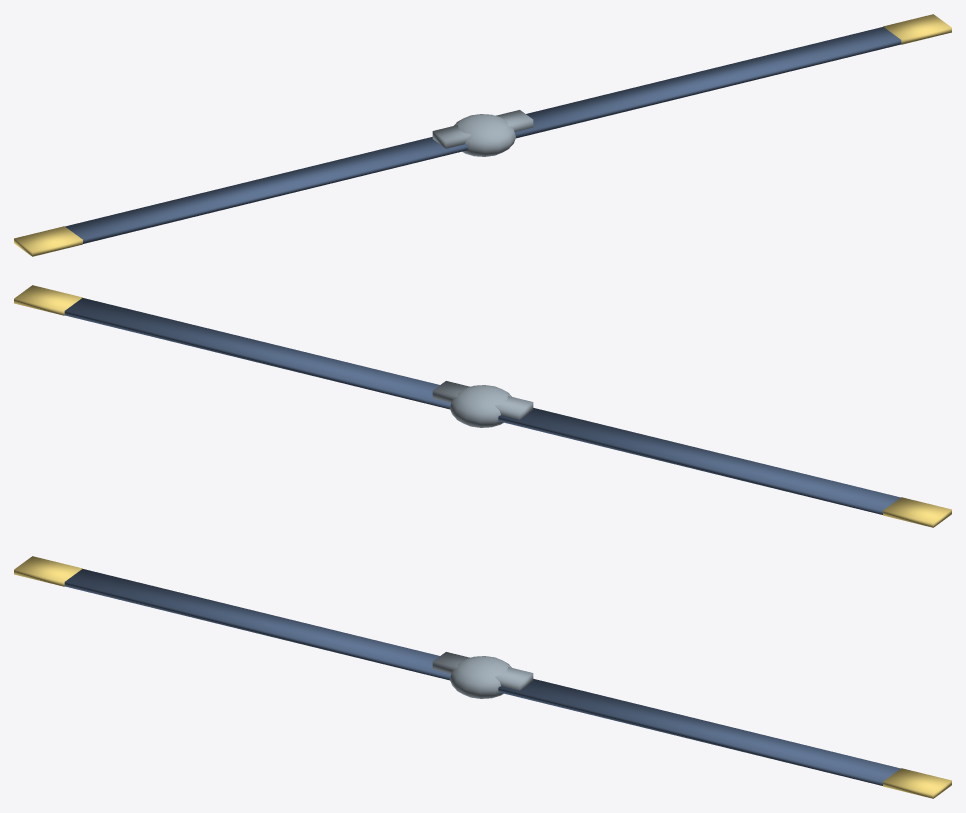
The model's file is ryeah_main_rotor.glb.
3 views of the same model, one above another, from view 1: azimuth 30°, elevation 25°; view 2: azimuth 150°, elevation 25°; view 3: azimuth 330°, elevation 25° (orthographic).
Parts seen in each view (by area): view 1: MainRotor_Blades, MainRotor_Hub, MainRotor_Tips; view 2: MainRotor_Blades, MainRotor_Hub, MainRotor_Tips; view 3: MainRotor_Blades, MainRotor_Hub, MainRotor_Tips.
Part boxes in pixels (x1=…): MainRotor_Blades: x1=65, y1=27, x2=901, y2=243; MainRotor_Hub: x1=432, y1=110, x2=533, y2=156; MainRotor_Tips: x1=14, y1=14, x2=951, y2=256; MainRotor_Blades: x1=64, y1=298, x2=900, y2=514; MainRotor_Hub: x1=432, y1=381, x2=533, y2=427; MainRotor_Tips: x1=14, y1=285, x2=951, y2=527; MainRotor_Blades: x1=64, y1=569, x2=900, y2=785; MainRotor_Hub: x1=432, y1=652, x2=533, y2=698; MainRotor_Tips: x1=14, y1=556, x2=951, y2=798.
Size of the model in its own units: 5.69 by 0.192 by 0.36.
